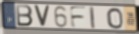6: (54, 5, 69, 29)
B: (15, 4, 34, 27)
F: (69, 5, 88, 29)
I: (89, 6, 97, 30)
O: (106, 7, 124, 30)
V: (33, 5, 52, 29)
